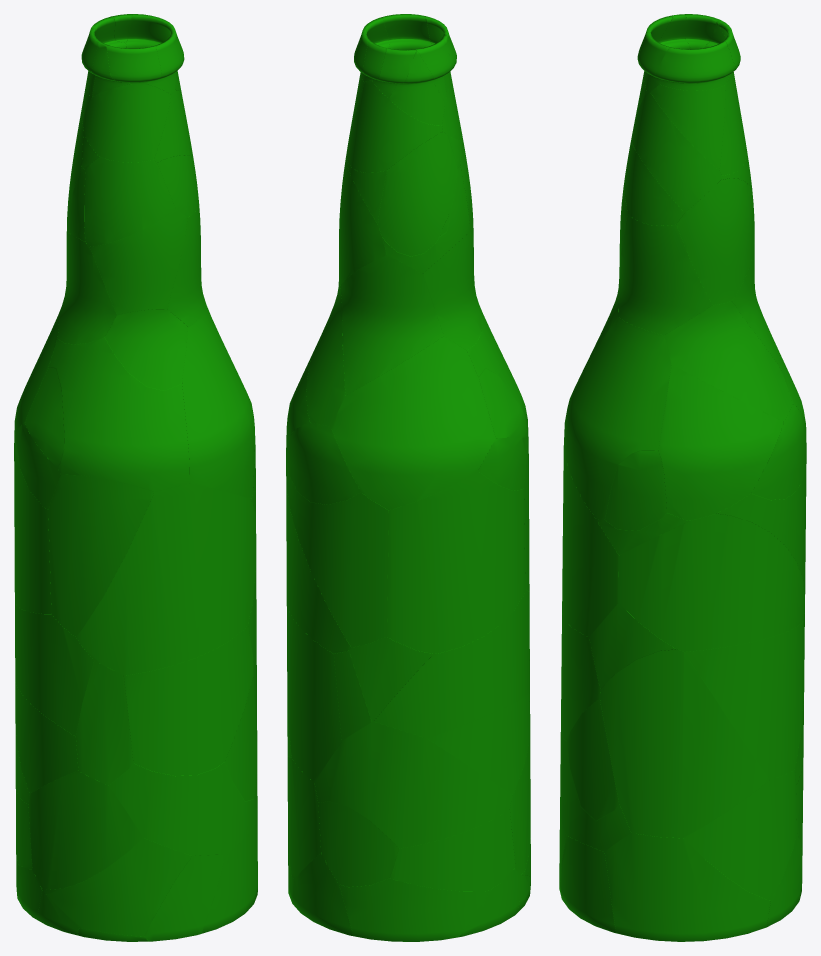
3 views of the same model, side by side, from view 1: azimuth 30°, elevation 25°; view 2: azimuth 150°, elevation 25°; view 3: azimuth 270°, elevation 25° (orthographic).
Parts seen in each view (by area): view 1: 13221_16oz_beer_bottle_v2_cell.022, 13221_16oz_beer_bottle_v2_cell.067, 13221_16oz_beer_bottle_v2_cell.064, 13221_16oz_beer_bottle_v2_cell.055, 13221_16oz_beer_bottle_v2_cell.060, 13221_16oz_beer_bottle_v2_cell.011, 13221_16oz_beer_bottle_v2_cell, 13221_16oz_beer_bottle_v2_cell.054, 13221_16oz_beer_bottle_v2_cell.085, 13221_16oz_beer_bottle_v2_cell.052, 13221_16oz_beer_bottle_v2_cell.024, 13221_16oz_beer_bottle_v2_cell.016 (+26 smaller); view 2: 13221_16oz_beer_bottle_v2_cell.074, 13221_16oz_beer_bottle_v2_cell.013, 13221_16oz_beer_bottle_v2_cell.082, 13221_16oz_beer_bottle_v2_cell.099, 13221_16oz_beer_bottle_v2_cell.085, 13221_16oz_beer_bottle_v2_cell.089, 13221_16oz_beer_bottle_v2_cell.039, 13221_16oz_beer_bottle_v2_cell.051, 13221_16oz_beer_bottle_v2_cell.059, 13221_16oz_beer_bottle_v2_cell.068, 13221_16oz_beer_bottle_v2_cell.030, 13221_16oz_beer_bottle_v2_cell.087 (+26 smaller); view 3: 13221_16oz_beer_bottle_v2_cell.040, 13221_16oz_beer_bottle_v2_cell.091, 13221_16oz_beer_bottle_v2_cell.060, 13221_16oz_beer_bottle_v2_cell.014, 13221_16oz_beer_bottle_v2_cell.025, 13221_16oz_beer_bottle_v2_cell.059, 13221_16oz_beer_bottle_v2_cell.050, 13221_16oz_beer_bottle_v2_cell.041, 13221_16oz_beer_bottle_v2_cell.079, 13221_16oz_beer_bottle_v2_cell.058, 13221_16oz_beer_bottle_v2_cell.022, 13221_16oz_beer_bottle_v2_cell.045 (+18 smaller).
Part boxes in pixels (x1,y1,x2,y2): 13221_16oz_beer_bottle_v2_cell.022: (75, 483, 256, 675); 13221_16oz_beer_bottle_v2_cell.067: (49, 337, 189, 491); 13221_16oz_beer_bottle_v2_cell.064: (123, 625, 253, 775); 13221_16oz_beer_bottle_v2_cell.055: (48, 474, 154, 636); 13221_16oz_beer_bottle_v2_cell.060: (182, 303, 254, 499); 13221_16oz_beer_bottle_v2_cell.011: (109, 762, 257, 855); 13221_16oz_beer_bottle_v2_cell: (28, 770, 143, 889); 13221_16oz_beer_bottle_v2_cell.054: (41, 838, 191, 936); 13221_16oz_beer_bottle_v2_cell.085: (15, 601, 94, 736); 13221_16oz_beer_bottle_v2_cell.052: (90, 209, 187, 314); 13221_16oz_beer_bottle_v2_cell.024: (84, 157, 175, 246); 13221_16oz_beer_bottle_v2_cell.016: (82, 84, 171, 162); 13221_16oz_beer_bottle_v2_cell.074: (387, 471, 525, 653); 13221_16oz_beer_bottle_v2_cell.013: (331, 336, 495, 509); 13221_16oz_beer_bottle_v2_cell.082: (314, 721, 511, 848); 13221_16oz_beer_bottle_v2_cell.099: (286, 455, 388, 647); 13221_16oz_beer_bottle_v2_cell.085: (374, 589, 529, 738); 13221_16oz_beer_bottle_v2_cell.089: (340, 255, 443, 395); 13221_16oz_beer_bottle_v2_cell.039: (339, 878, 489, 941); 13221_16oz_beer_bottle_v2_cell.051: (378, 132, 457, 256); 13221_16oz_beer_bottle_v2_cell.059: (286, 603, 341, 782); 13221_16oz_beer_bottle_v2_cell.068: (389, 809, 515, 891); 13221_16oz_beer_bottle_v2_cell.030: (427, 692, 529, 795); 13221_16oz_beer_bottle_v2_cell.087: (318, 801, 398, 886); 13221_16oz_beer_bottle_v2_cell.040: (600, 649, 769, 838); 13221_16oz_beer_bottle_v2_cell.091: (618, 513, 804, 651); 13221_16oz_beer_bottle_v2_cell.060: (564, 317, 671, 519); 13221_16oz_beer_bottle_v2_cell.014: (604, 832, 770, 941); 13221_16oz_beer_bottle_v2_cell.025: (658, 365, 783, 520); 13221_16oz_beer_bottle_v2_cell.059: (684, 621, 803, 779); 13221_16oz_beer_bottle_v2_cell.050: (684, 770, 796, 900); 13221_16oz_beer_bottle_v2_cell.041: (664, 301, 792, 421); 13221_16oz_beer_bottle_v2_cell.079: (618, 214, 712, 335); 13221_16oz_beer_bottle_v2_cell.058: (676, 178, 754, 305); 13221_16oz_beer_bottle_v2_cell.022: (562, 441, 618, 636); 13221_16oz_beer_bottle_v2_cell.045: (631, 92, 722, 212).
Size of the model in its own units: 644 by 2516 by 655.
